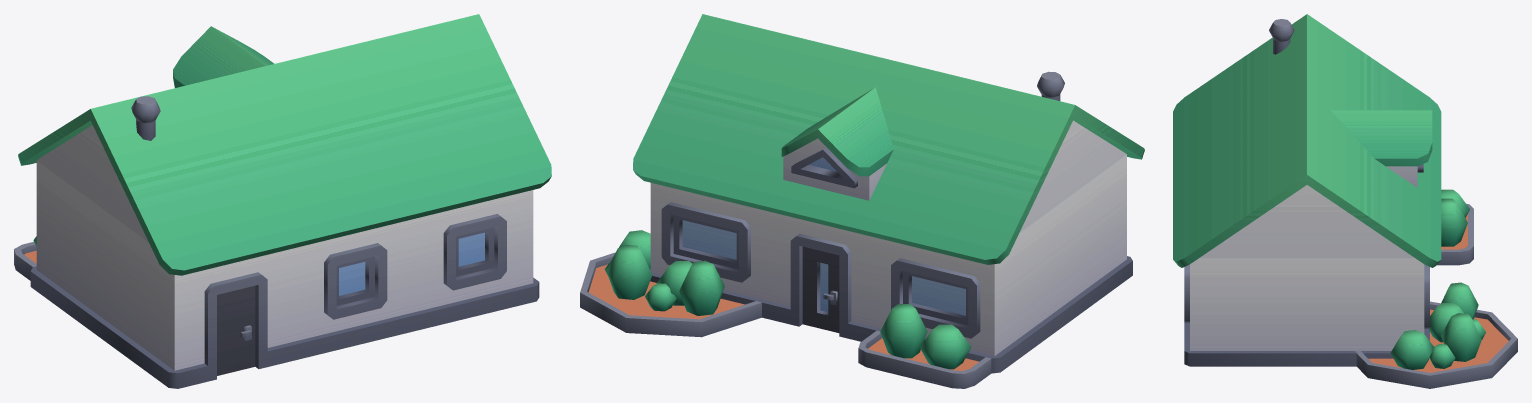
The model's file is building-type-g.glb.
3 renders of one model, left to right at view 1: azimuth 30°, elevation 25°; view 2: azimuth 150°, elevation 25°; view 3: azimuth 270°, elevation 25°, orthographic. The views are drawn at different scales.
Parts seen in each view (by area): view 1: building-type-g; view 2: building-type-g; view 3: building-type-g.
Part boxes in pixels (left/top/right/bottom): building-type-g: left=14, top=14, right=551, bottom=388; building-type-g: left=580, top=14, right=1144, bottom=388; building-type-g: left=1173, top=14, right=1517, bottom=388.
Bounding box in the file's own units: 1.45 × 0.7683 × 1.18.
Materials: 1 (1 with a texture image).
